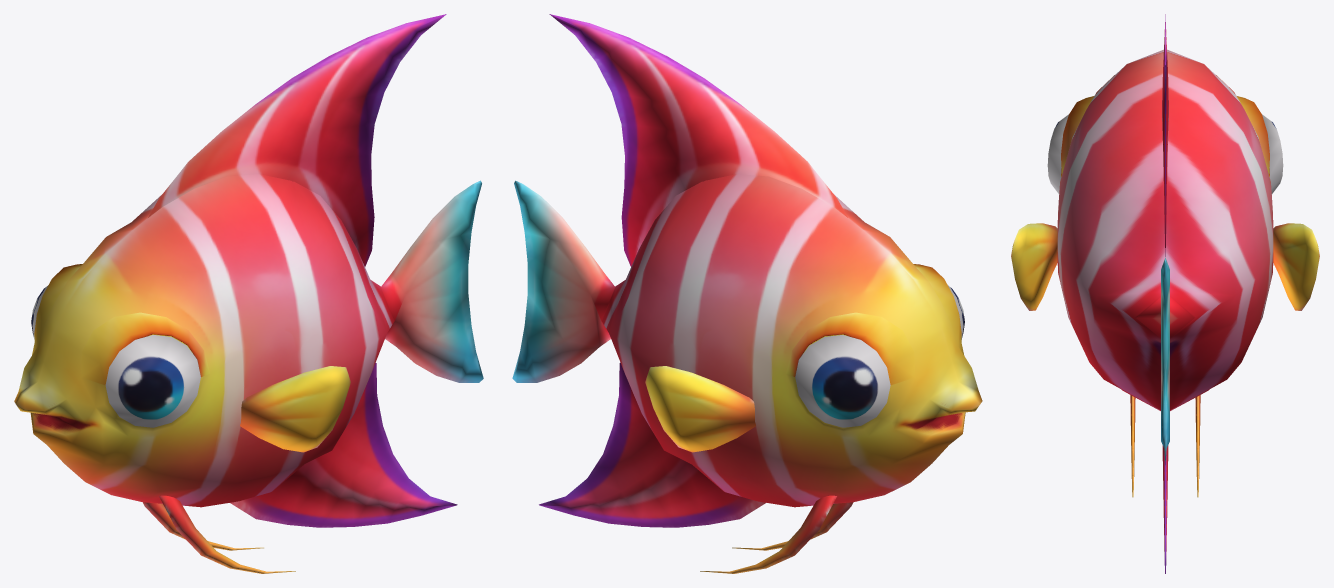
File: red_stripe_wing.fbx
3 views of the same model, side by side, from view 1: azimuth 30°, elevation 25°; view 2: azimuth 150°, elevation 25°; view 3: azimuth 270°, elevation 25° (orthographic). The views are drawn at different scales.
Visible parts, largest first — view 1: Red_Fish_Reference_Matched; view 2: Red_Fish_Reference_Matched; view 3: Red_Fish_Reference_Matched.
Boxes of the visible parts, box(x1,y1,x2,y2) form: Red_Fish_Reference_Matched: box(14, 14, 483, 573); Red_Fish_Reference_Matched: box(512, 14, 982, 573); Red_Fish_Reference_Matched: box(1011, 14, 1319, 573).
Bounding box in the file's own units: 305 × 315 × 171.
Materials: 1 (1 with a texture image).
